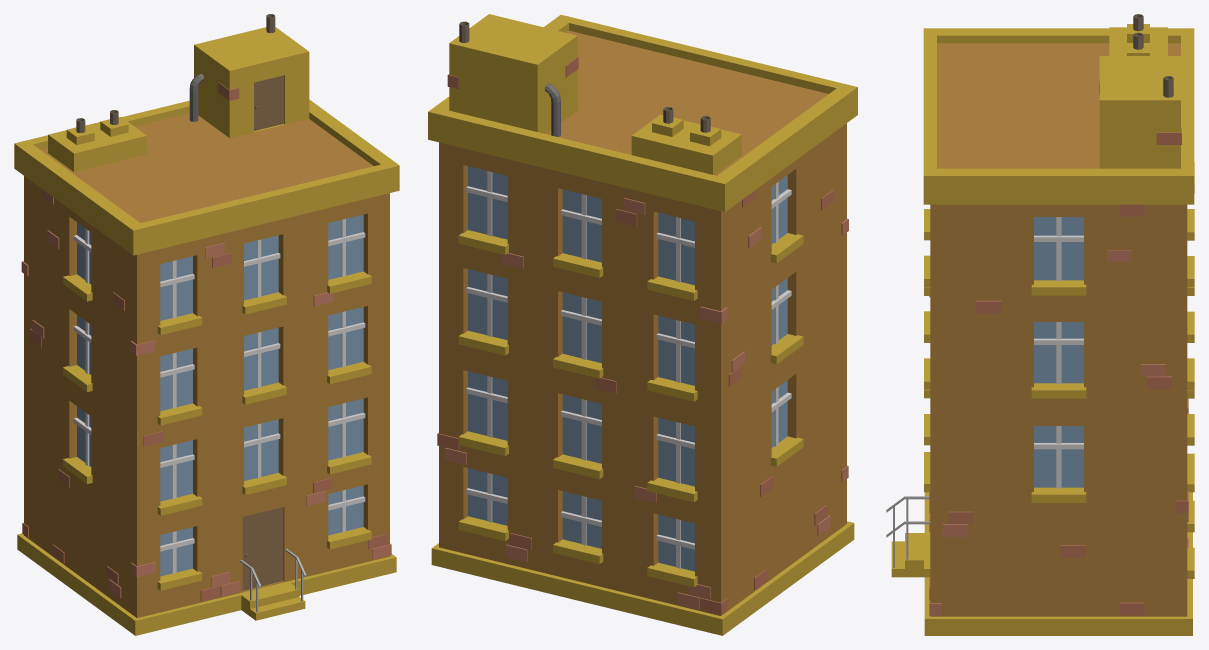
File: House_03.fbx
3 renders of one model, left to right at view 1: azimuth 30°, elevation 25°; view 2: azimuth 150°, elevation 25°; view 3: azimuth 270°, elevation 25°, orthographic. The views are drawn at different scales.
Parts seen in each view (by area): view 1: House_03; view 2: House_03; view 3: House_03.
Boxes of the visible parts, x1=… form: House_03: x1=14, y1=14, x2=399, y2=635; House_03: x1=428, y1=14, x2=857, y2=635; House_03: x1=886, y1=14, x2=1194, y2=635.
Bounding box in the file's own units: 714 × 1235 × 630.
1 material, 1 textured.
